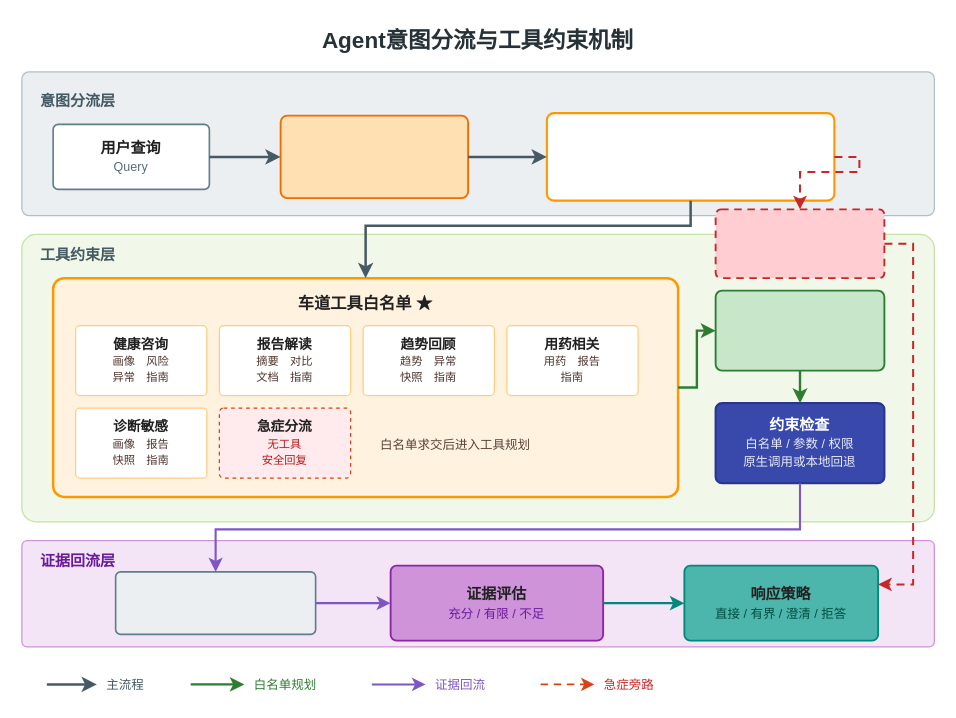
The diagram is 956 pixels wide and 718 high, and some of its shapes have lost their labels. The shapes that lost their labels are listed below. From the top down, each one's centre as x and y in pixels, then its label:
point 373,156: 意图分类
point 690,156: 车道决策 六类车道 + 风险路由
point 799,243: 急症旁路 安全回复
point 799,330: 工具规划 Top-4
point 215,602: 证据标签 工具结果 + 元数据
